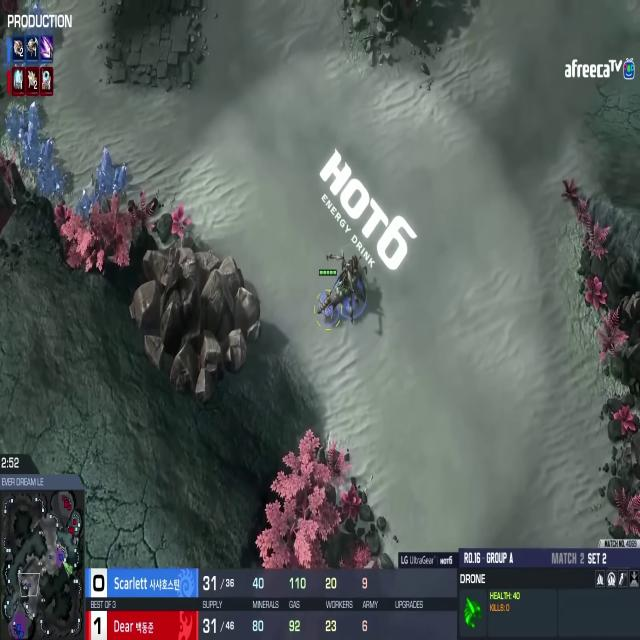drone: (316, 278, 340, 332)
queen: (321, 242, 373, 327)
